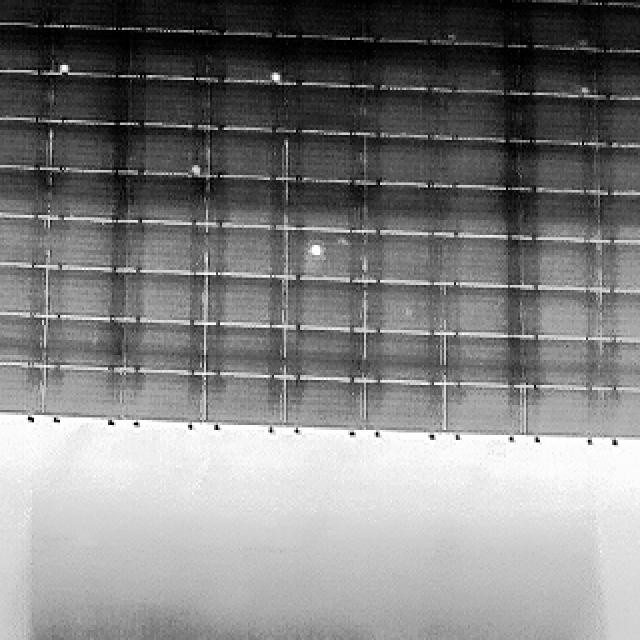Hotspots: (265, 66, 286, 84), (56, 59, 78, 76), (308, 235, 322, 261), (188, 159, 208, 174)
PV-modules: (122, 271, 208, 324), (361, 332, 445, 386), (123, 226, 209, 278), (126, 175, 210, 228), (518, 288, 602, 341), (120, 371, 203, 424), (201, 375, 284, 428), (514, 240, 597, 293), (518, 188, 601, 241), (123, 322, 207, 374), (40, 368, 125, 419), (441, 335, 524, 387), (361, 384, 445, 435), (206, 178, 288, 230), (280, 36, 365, 86), (202, 323, 283, 375), (206, 35, 290, 85), (514, 140, 598, 190), (204, 275, 286, 326), (280, 276, 362, 327), (284, 83, 366, 134), (442, 386, 524, 437), (364, 280, 446, 331), (281, 379, 363, 430), (513, 97, 595, 148), (443, 282, 523, 334), (205, 230, 288, 280), (281, 327, 362, 378), (284, 182, 365, 233), (45, 266, 124, 318), (206, 129, 288, 179), (206, 80, 288, 130), (124, 126, 206, 176), (520, 336, 597, 389), (519, 46, 599, 97), (431, 186, 514, 235), (283, 130, 364, 180), (128, 75, 210, 124), (47, 73, 129, 122), (48, 171, 127, 221), (43, 320, 122, 370), (363, 236, 441, 286), (431, 137, 512, 185), (363, 42, 444, 90), (441, 237, 517, 288), (133, 30, 209, 81), (49, 122, 128, 170), (47, 220, 121, 271), (520, 389, 595, 439), (446, 44, 524, 92), (363, 90, 439, 139), (52, 30, 131, 77), (516, 0, 598, 45), (362, 185, 436, 234), (364, 135, 436, 185), (438, 93, 512, 140), (298, 233, 367, 282), (362, 0, 444, 40), (444, 0, 520, 42), (206, 0, 290, 35), (282, 0, 362, 35), (0, 215, 50, 267), (0, 115, 50, 165), (0, 165, 50, 215), (0, 68, 50, 118), (0, 262, 48, 312), (130, 0, 210, 30), (0, 25, 50, 73), (0, 365, 46, 415), (594, 2, 640, 52), (594, 50, 640, 100), (594, 97, 640, 145), (0, 315, 44, 365), (596, 146, 640, 196), (597, 337, 640, 388), (598, 243, 640, 295), (598, 192, 640, 242), (599, 289, 640, 340), (599, 388, 640, 439), (54, 0, 126, 25), (0, 0, 52, 22), (516, 0, 594, 5), (590, 0, 640, 5)
